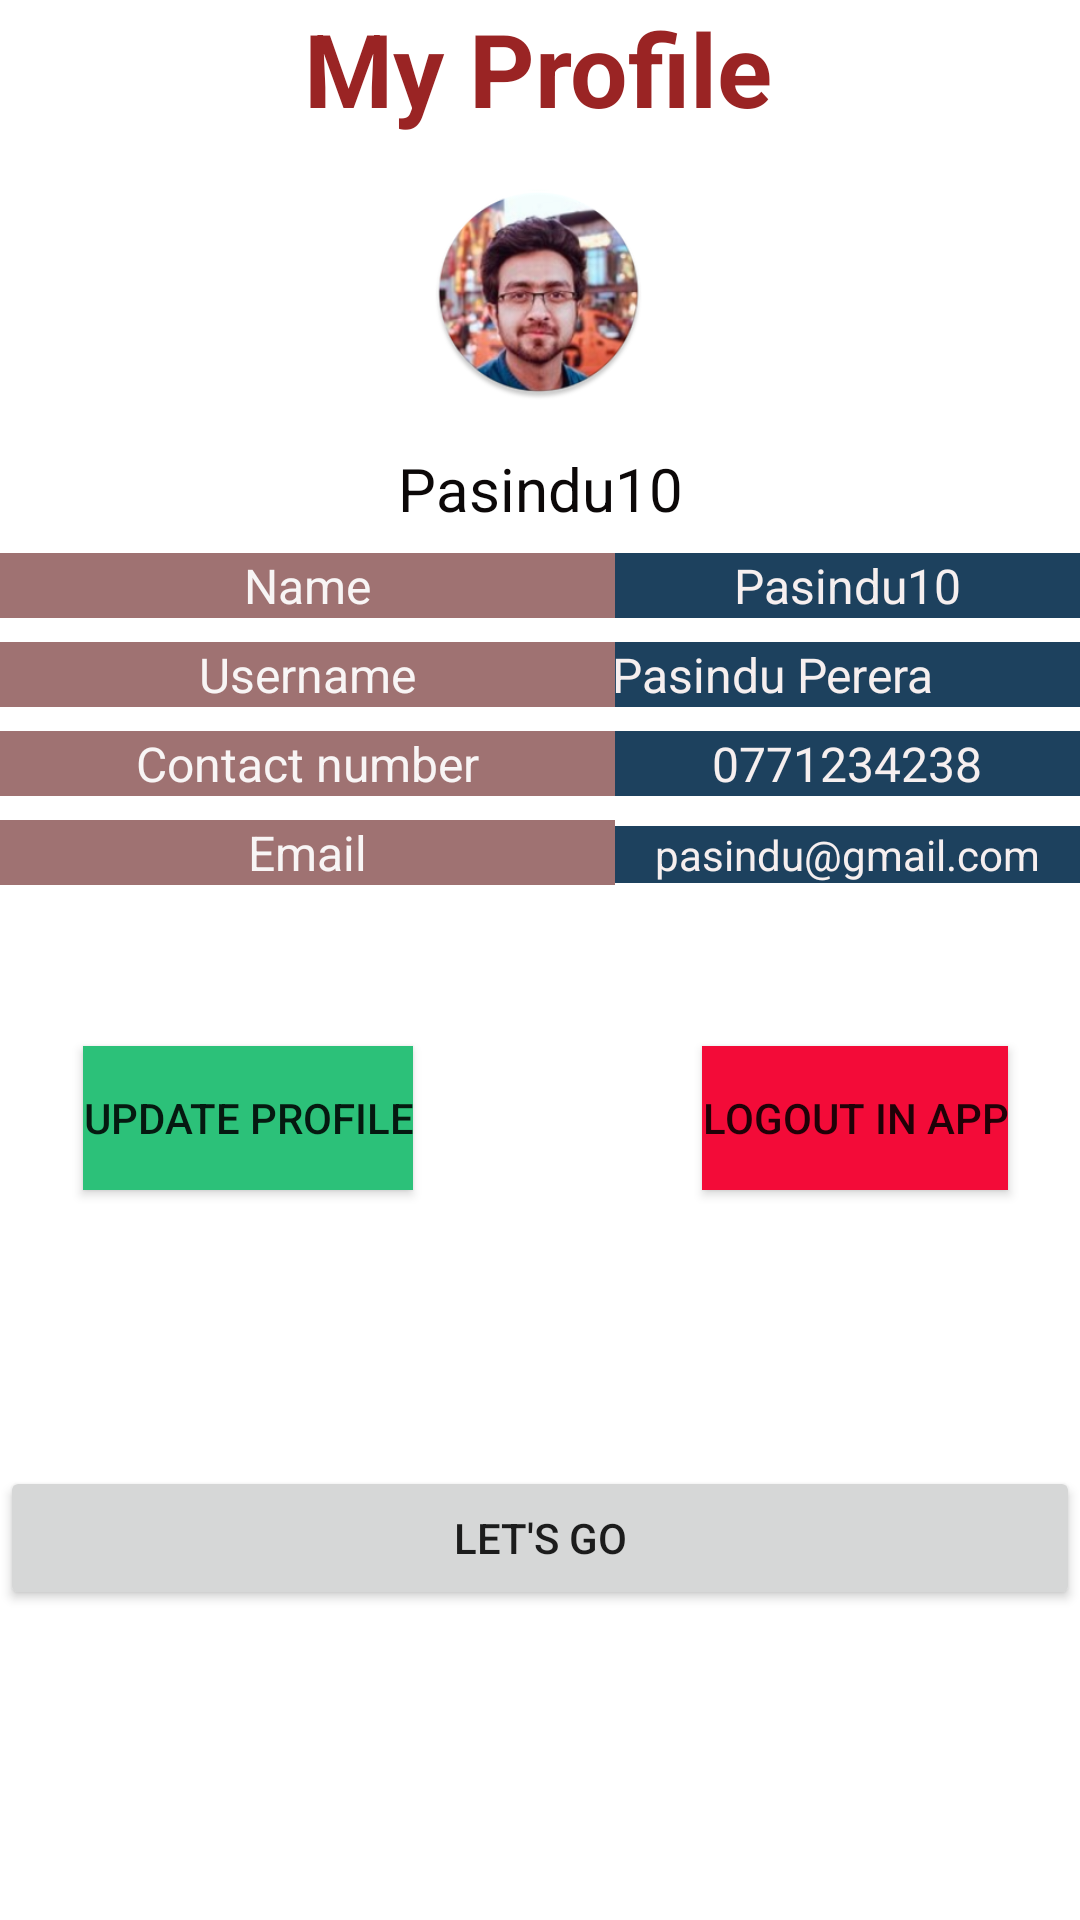

Icons on this 1080 x 1920 Android screen, each with the point to tap as [x,y]:
userprofile round: [538,297]
